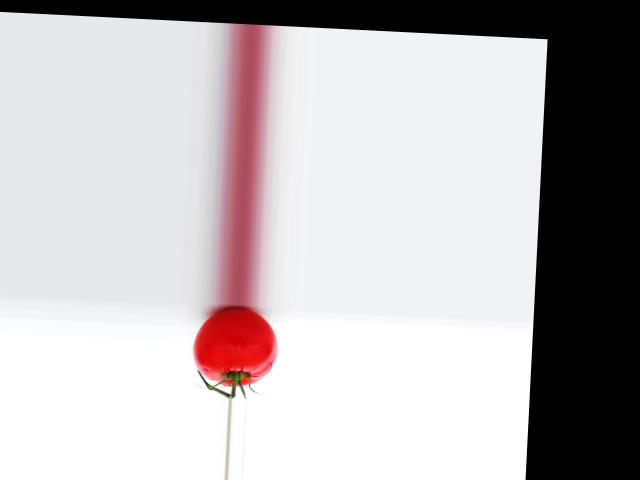tomato: (192, 305, 281, 388)
